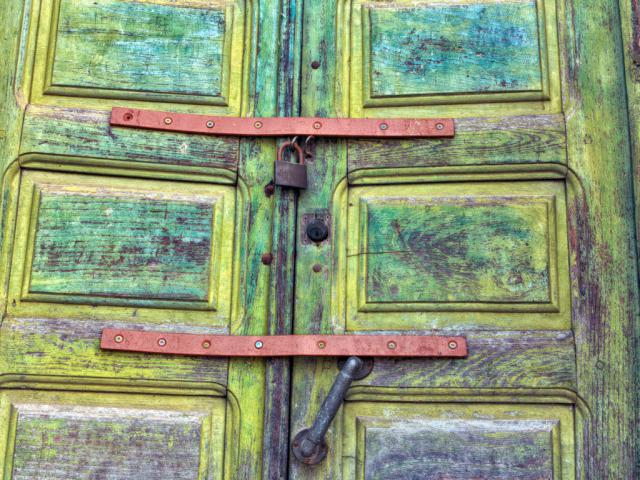Door-handle: (296, 353, 374, 466)
